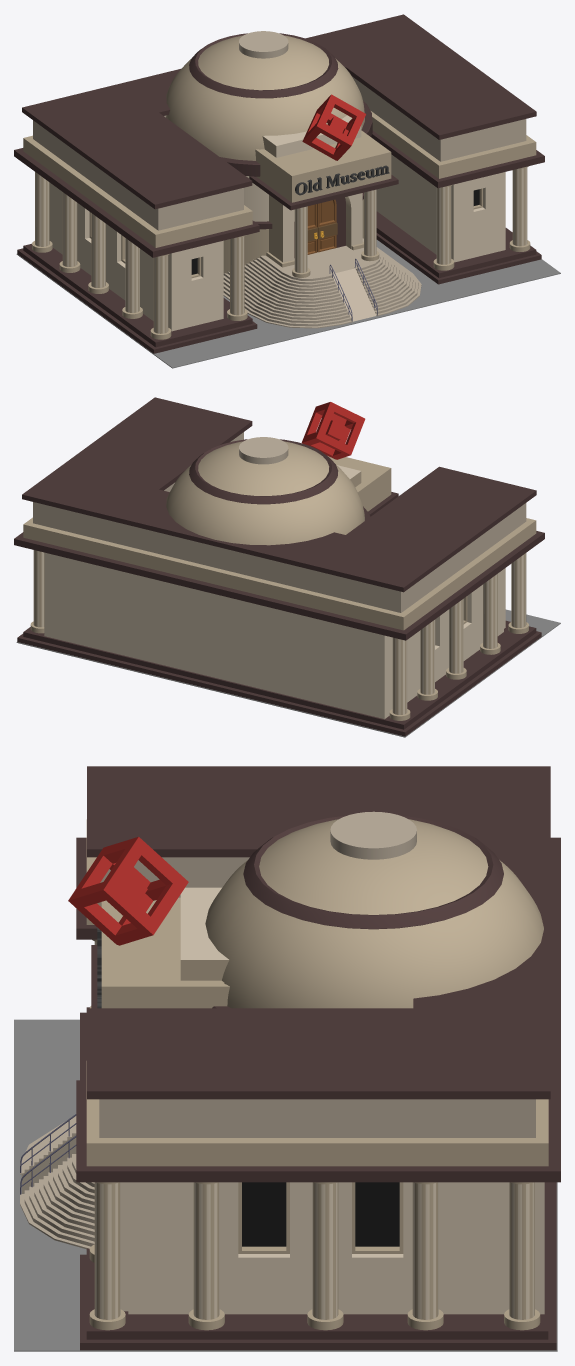
The model's file is building_museum_out.fbx.
3 views of the same model, one above another, from view 1: azimuth 30°, elevation 25°; view 2: azimuth 150°, elevation 25°; view 3: azimuth 270°, elevation 25° (orthographic). The views are drawn at different scales.
Parts seen in each view (by area): view 1: main_structure, ground, cube, porta_1, oldMuseumTittle, porta_2; view 2: main_structure, cube, ground; view 3: main_structure, ground, cube.
Part boxes in pixels (box(x1,y1,x2,y2)): main_structure: box(14, 14, 544, 353); ground: box(16, 240, 560, 368); cube: box(302, 94, 365, 160); porta_1: box(317, 199, 337, 252); oldMuseumTittle: box(295, 165, 389, 195); porta_2: box(307, 204, 318, 254); main_structure: box(14, 397, 544, 736); cube: box(301, 402, 365, 459); ground: box(16, 609, 560, 737); main_structure: box(20, 766, 560, 1350); ground: box(14, 1019, 557, 1351); cube: box(68, 836, 188, 945).
Bounding box in the file's own units: 3071 × 2127 × 1528.
